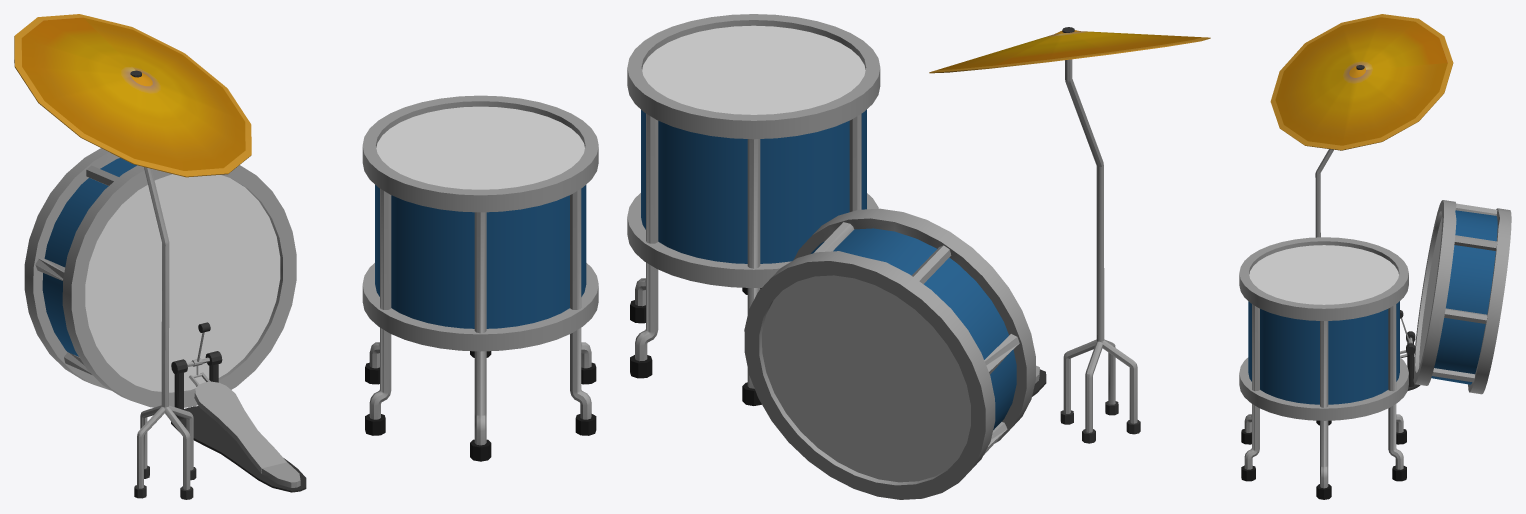
File: Drum set.fbx
3 renders of one model, left to right at view 1: azimuth 30°, elevation 25°; view 2: azimuth 150°, elevation 25°; view 3: azimuth 270°, elevation 25°, orthographic. The views are drawn at different scales.
Parts seen in each view (by area): view 1: Drum set; view 2: Drum set; view 3: Drum set.
Part boxes in pixels (x1=…): Drum set: x1=14, y1=14, x2=598, y2=499; Drum set: x1=627, y1=14, x2=1210, y2=499; Drum set: x1=1239, y1=14, x2=1511, y2=499.
Bounding box in the file's own units: 104 × 77.52 × 62.7.
